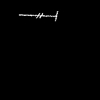treble_crochet: (24, 13, 57, 16)
